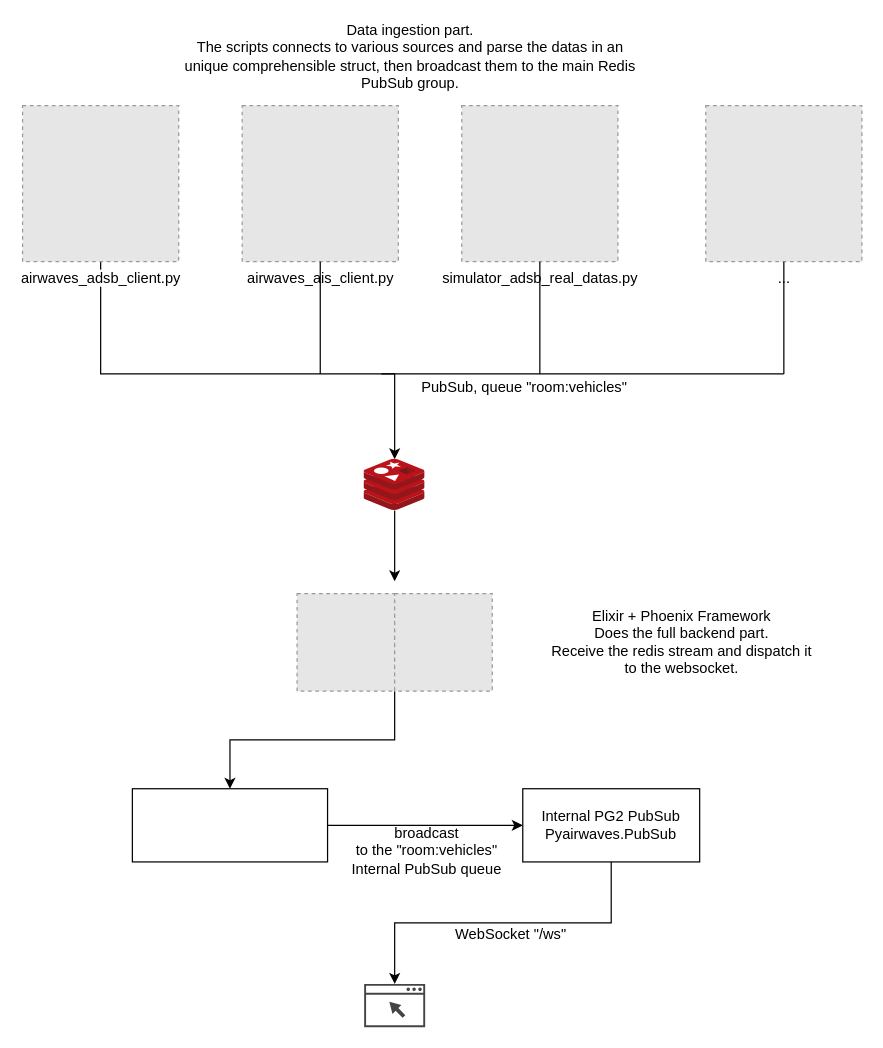
The diagram is 883 pixels wide and 1048 high, and some of its shapes have lost their labels. Grey dashed boxes stand in for pictures. Each missing label, with the centre of its shape:
Pyairwaves.RedisEater Subscribe to "room:vehicles" Redis queue: [229,825]
redis: [394,484]
